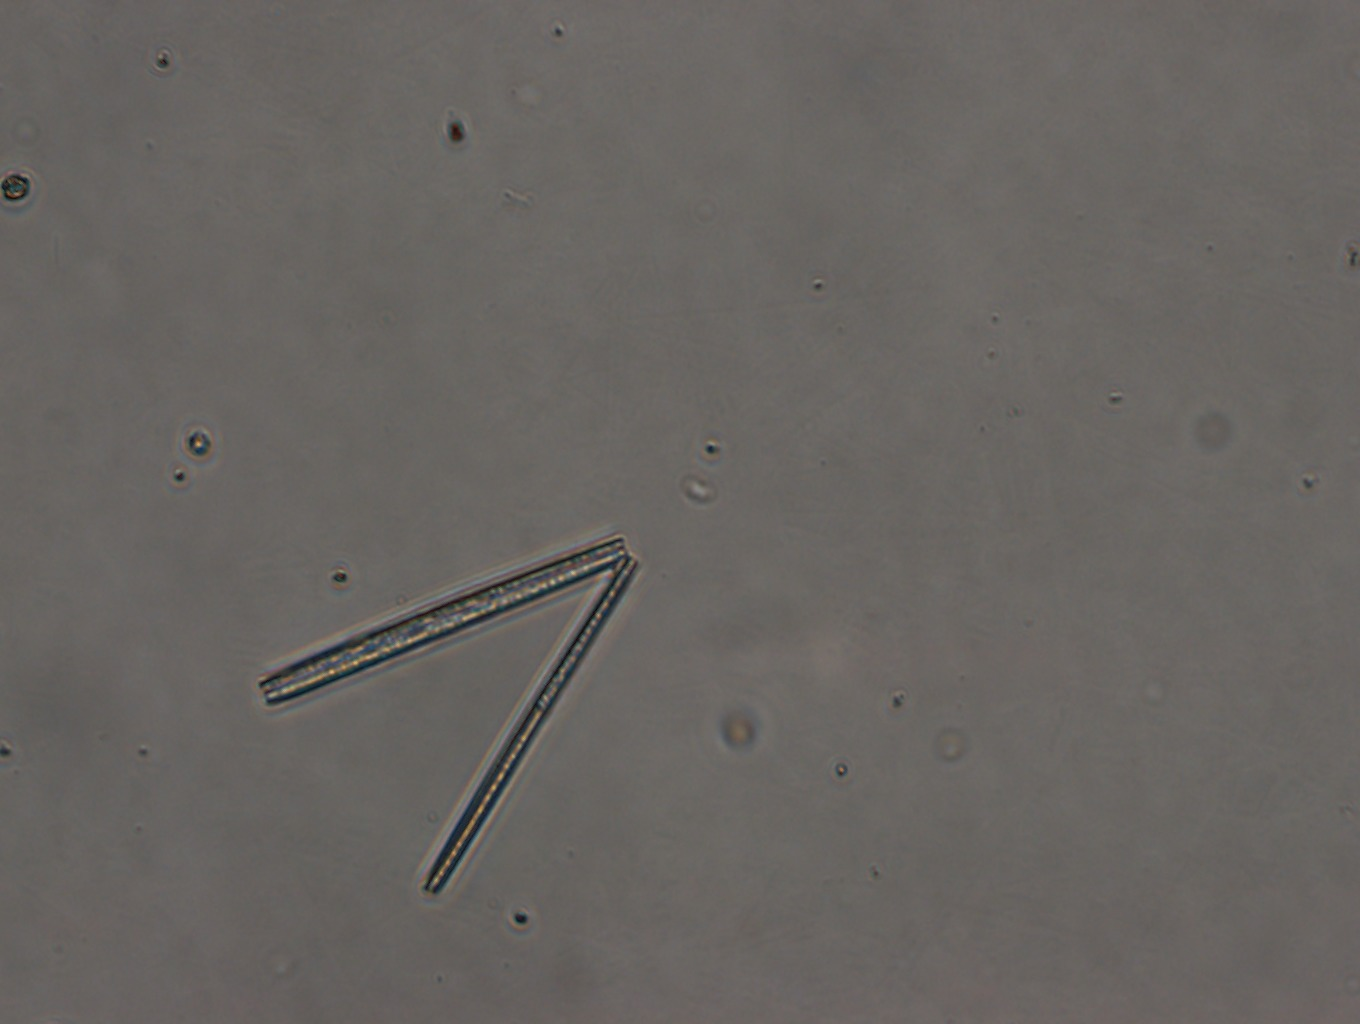thalassionema frauenfeldii: (252, 532, 649, 896)
